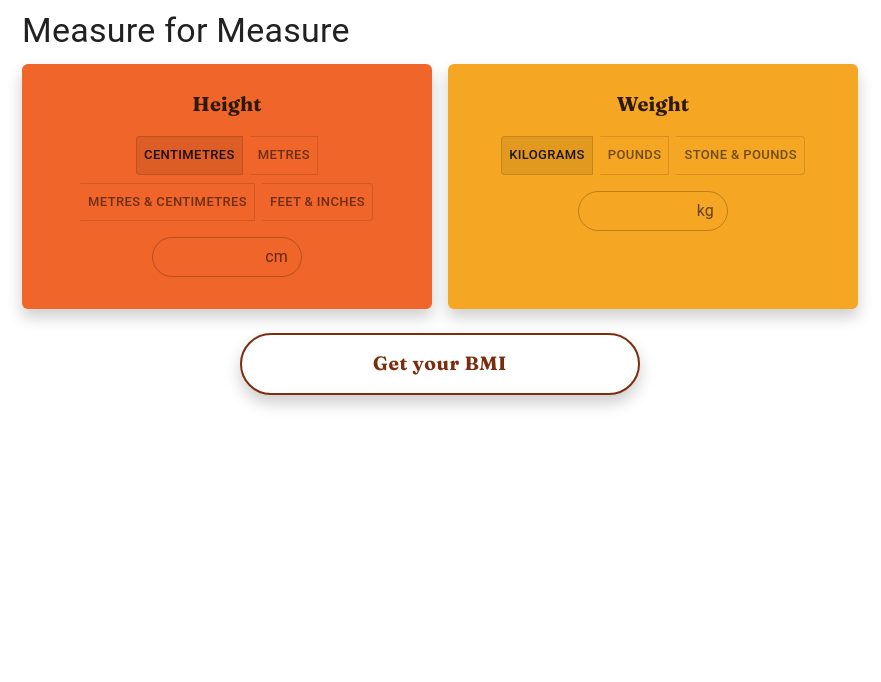
App › does not update BMI when out of range value is submitted
The image size is (881, 682).
Type "170" into the number field next to "cm".
click(205, 257); type("170")  # box [152,237,257,277]
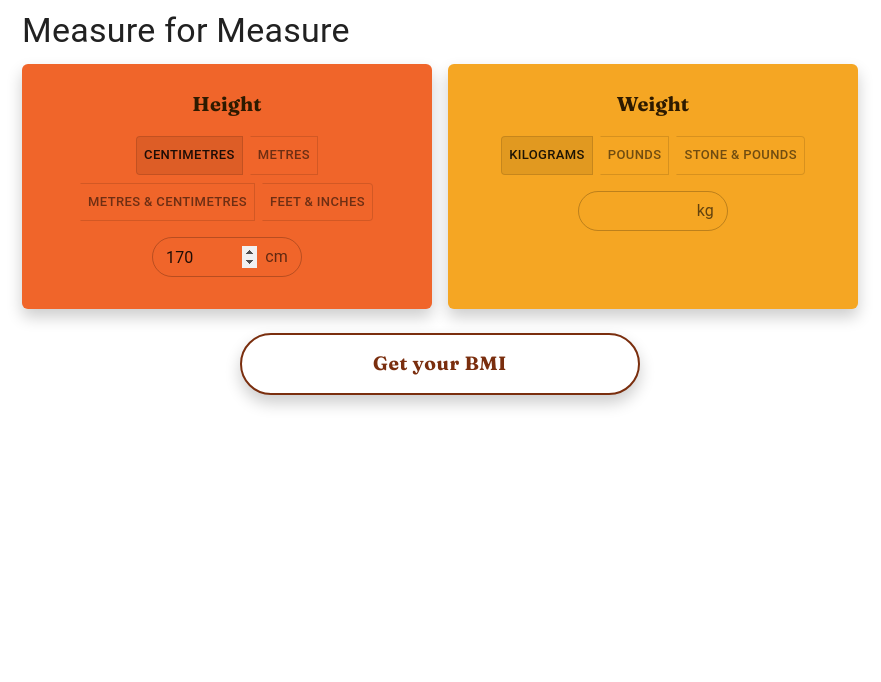
Type "70" into the number field next to "kg".
click(633, 211); type("70")  # box [578,191,689,231]
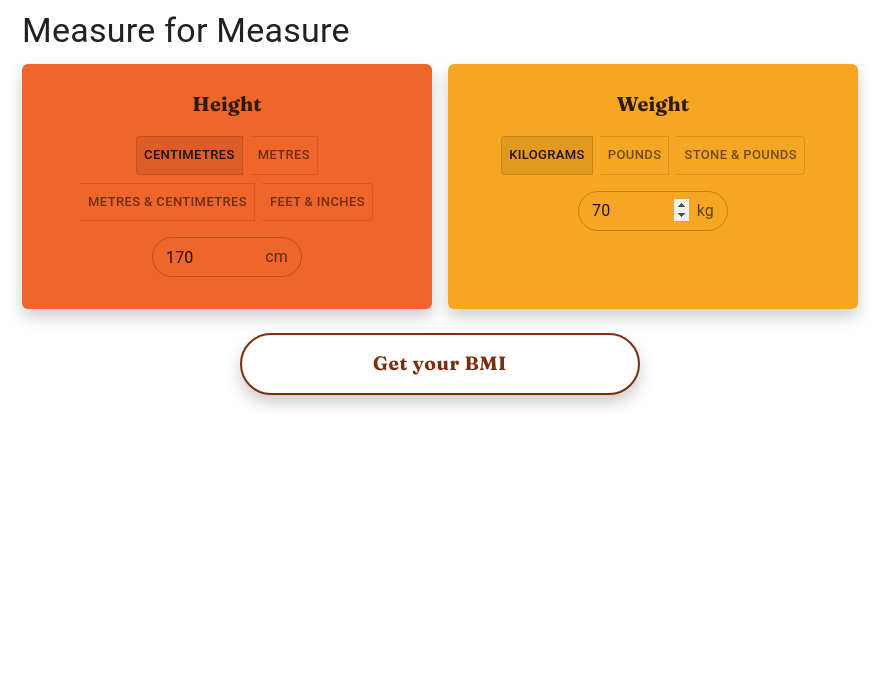
Click the button "Get your BMI".
click(440, 364)  # box [240,333,640,395]
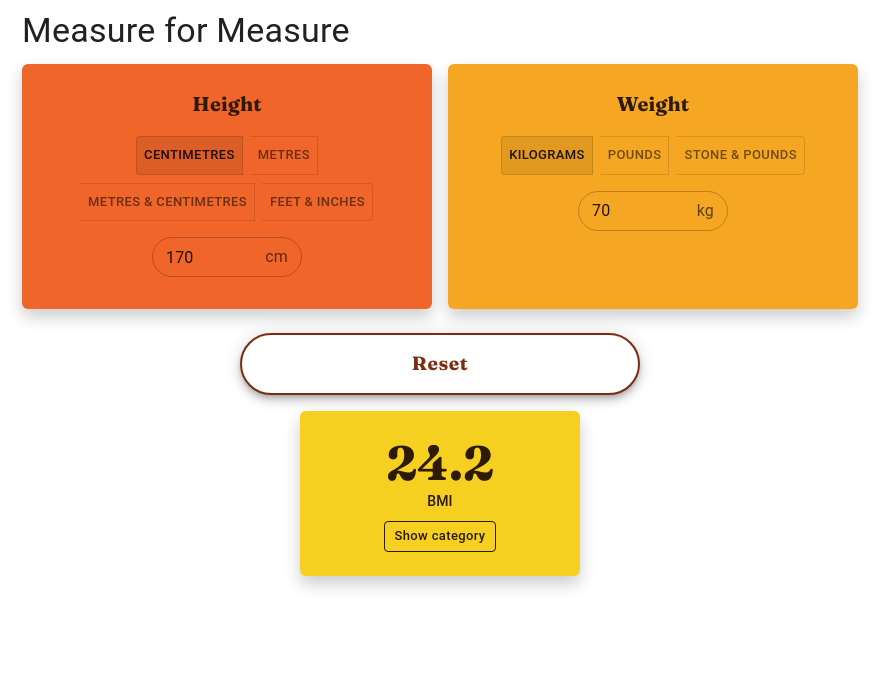
Replace the text in the number field next to "cm" with "999" at [205, 257], box [152,237,257,277]
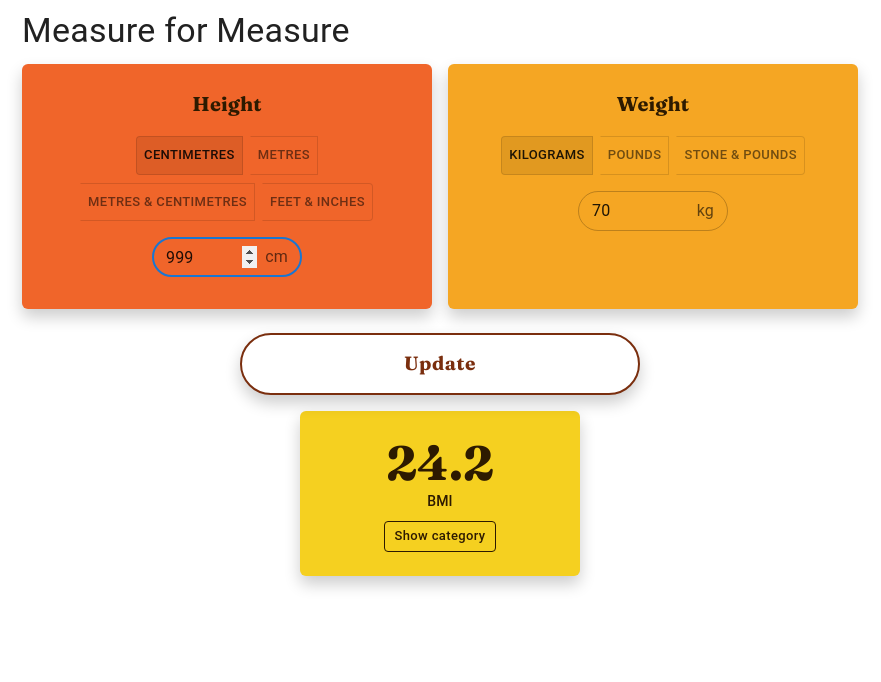
Click the button "Update".
click(440, 364)  # box [240,333,640,395]
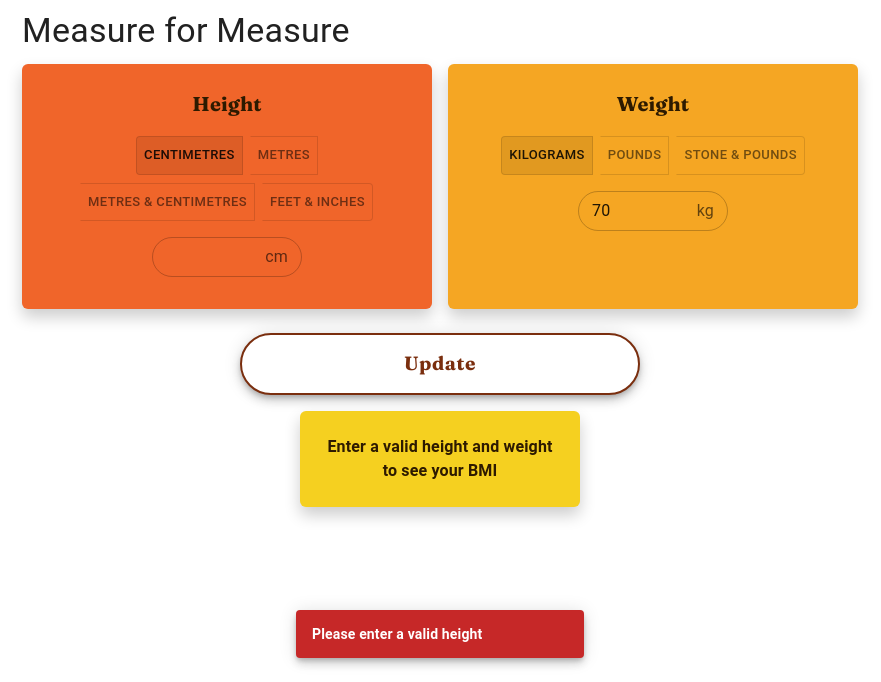
Expected: the heading "24.2" is gone
Expected: the text "Please enter a valid height" is shown, [312,626,482,642]
